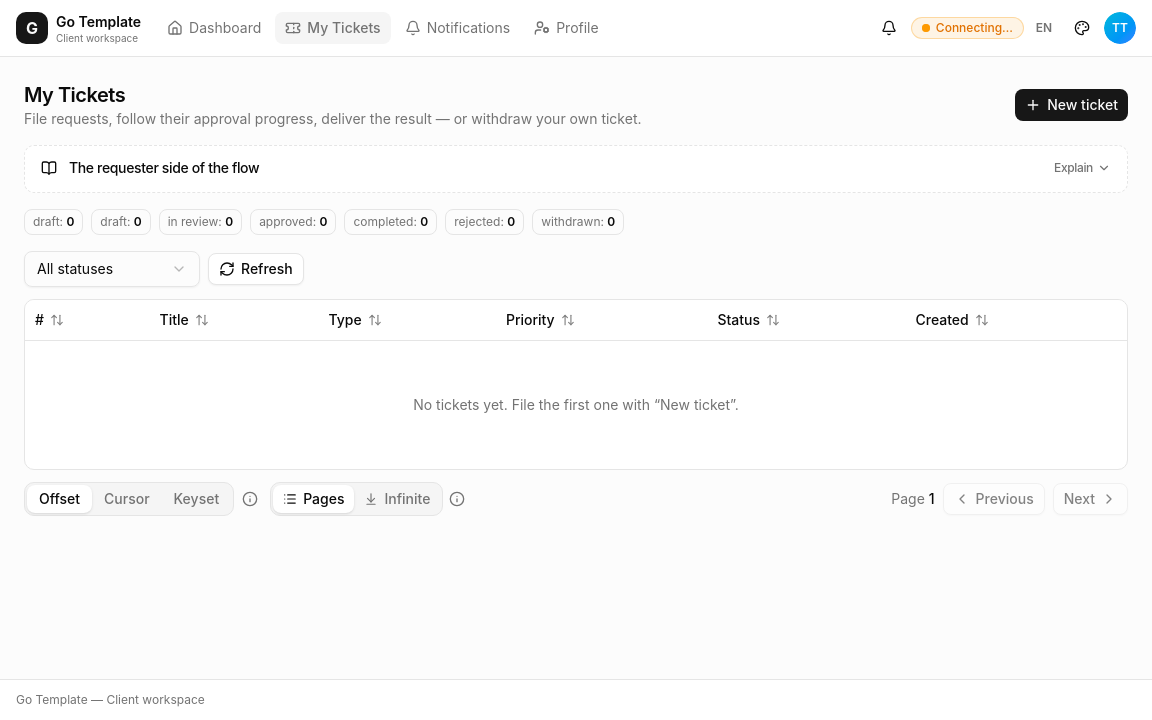
Test case: tickets page › opens the create dialog and files a ticket against the API
Expected: the heading "My Tickets" is shown, 24,83 -> 125,107
Click the button "New ticket".
click(1072, 105)  # box 1015,89 -> 1128,121
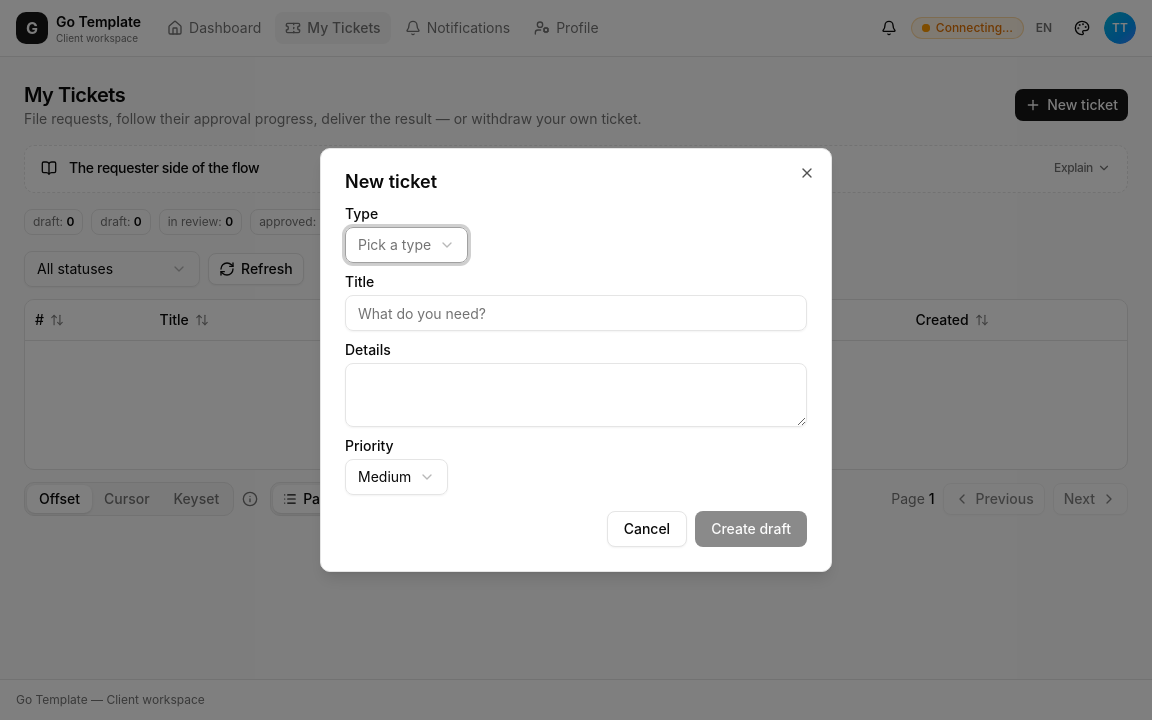
Note: Radix Select needs two interactions: open, then pick the visible item.
Click the dropdown named "Ticket type".
click(407, 245)  # box 345,227 -> 468,263
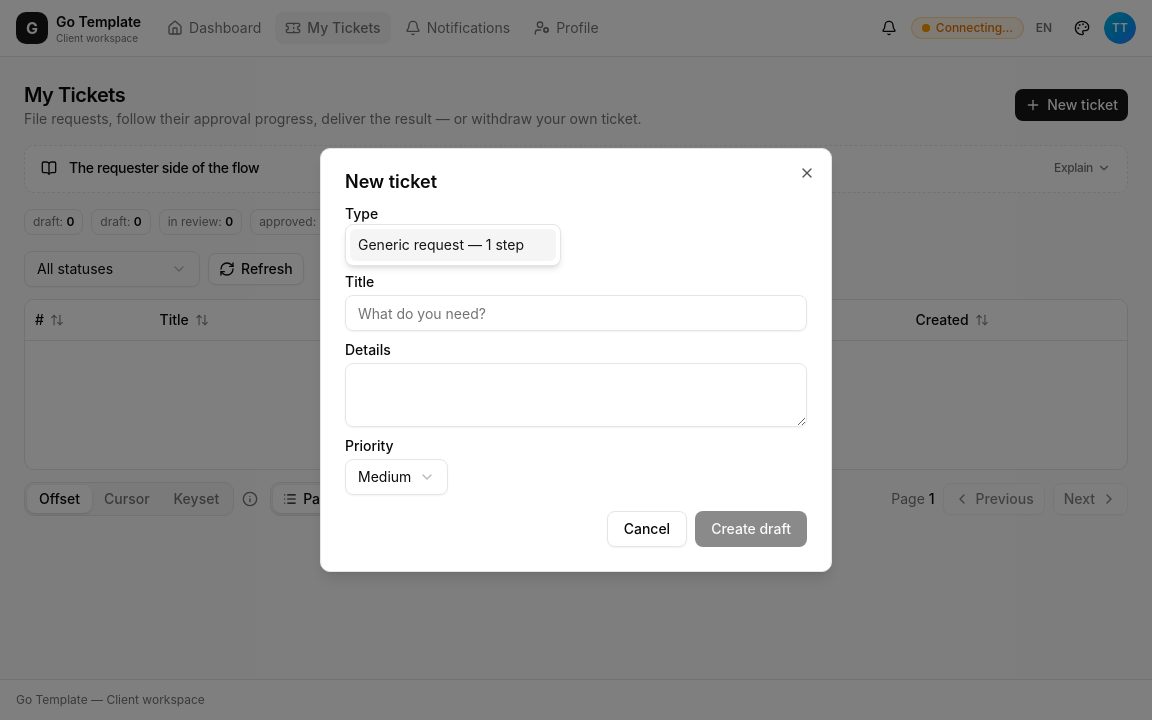
Click the option "Generic request — 1 step".
click(453, 245)  # box 350,229 -> 556,261
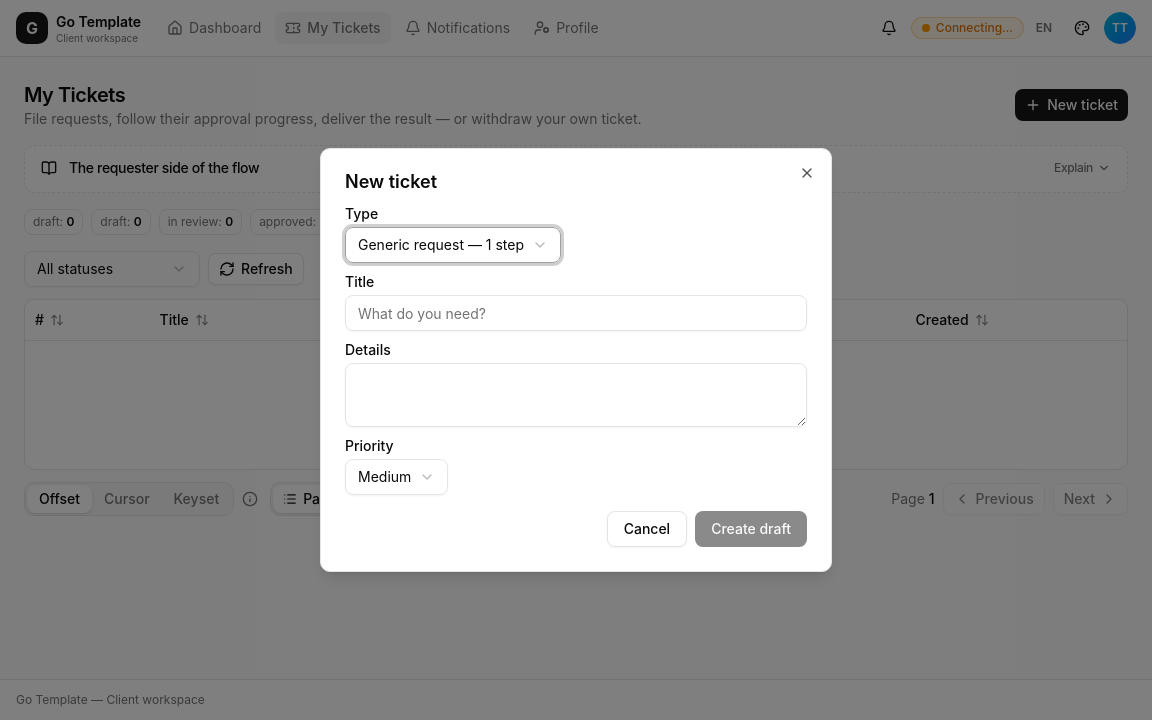
Type "New desk chair" into the field labelled "Title".
click(576, 313); type("New desk chair")  # box 345,295 -> 807,331
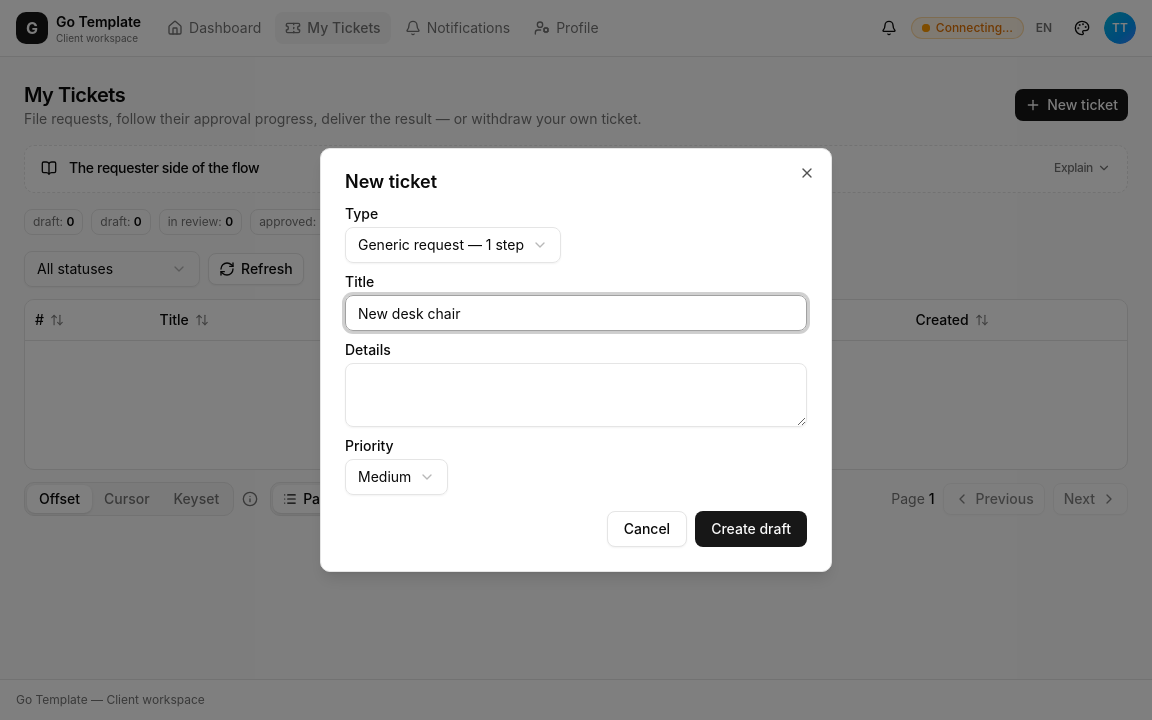
Click the button "Create draft".
click(751, 529)  # box 695,511 -> 807,547
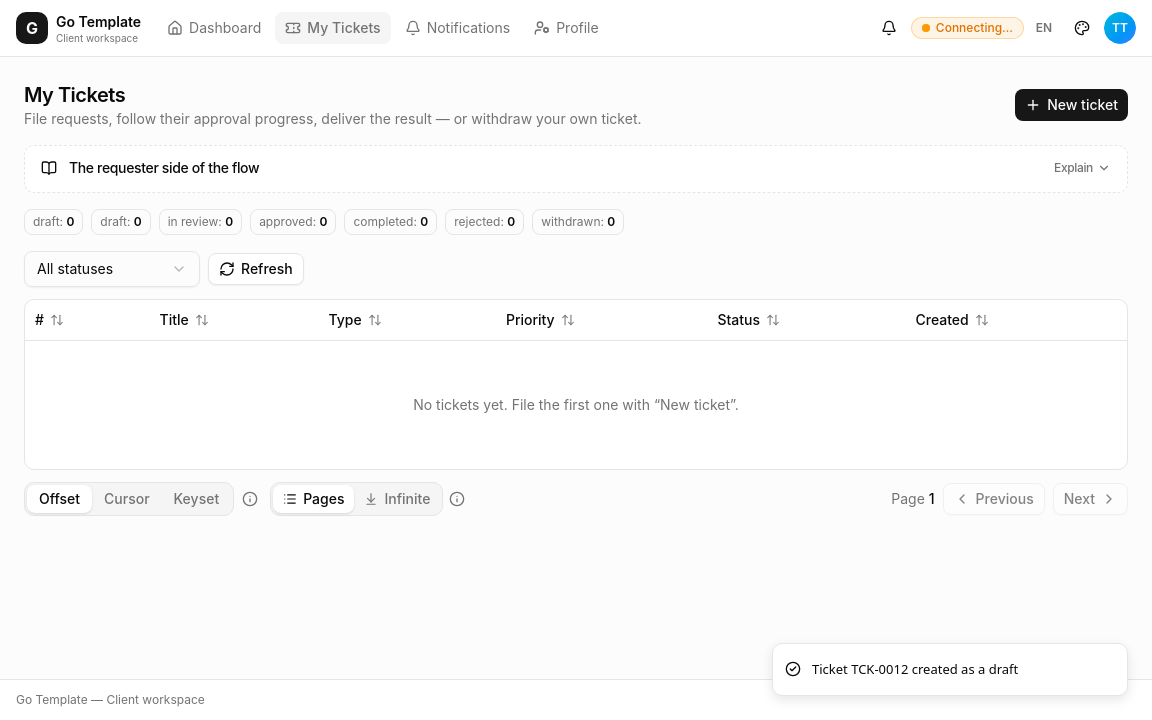
Expected: the text "Ticket TCK-0012 created as a draft" is shown, 812,660 -> 1018,679
